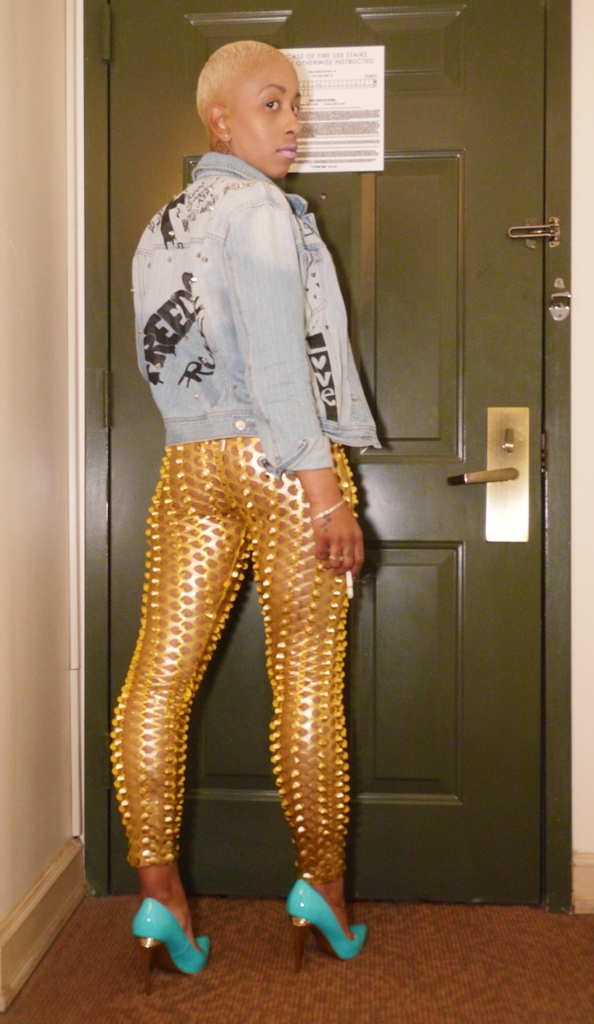Person: (109, 40, 382, 994)
